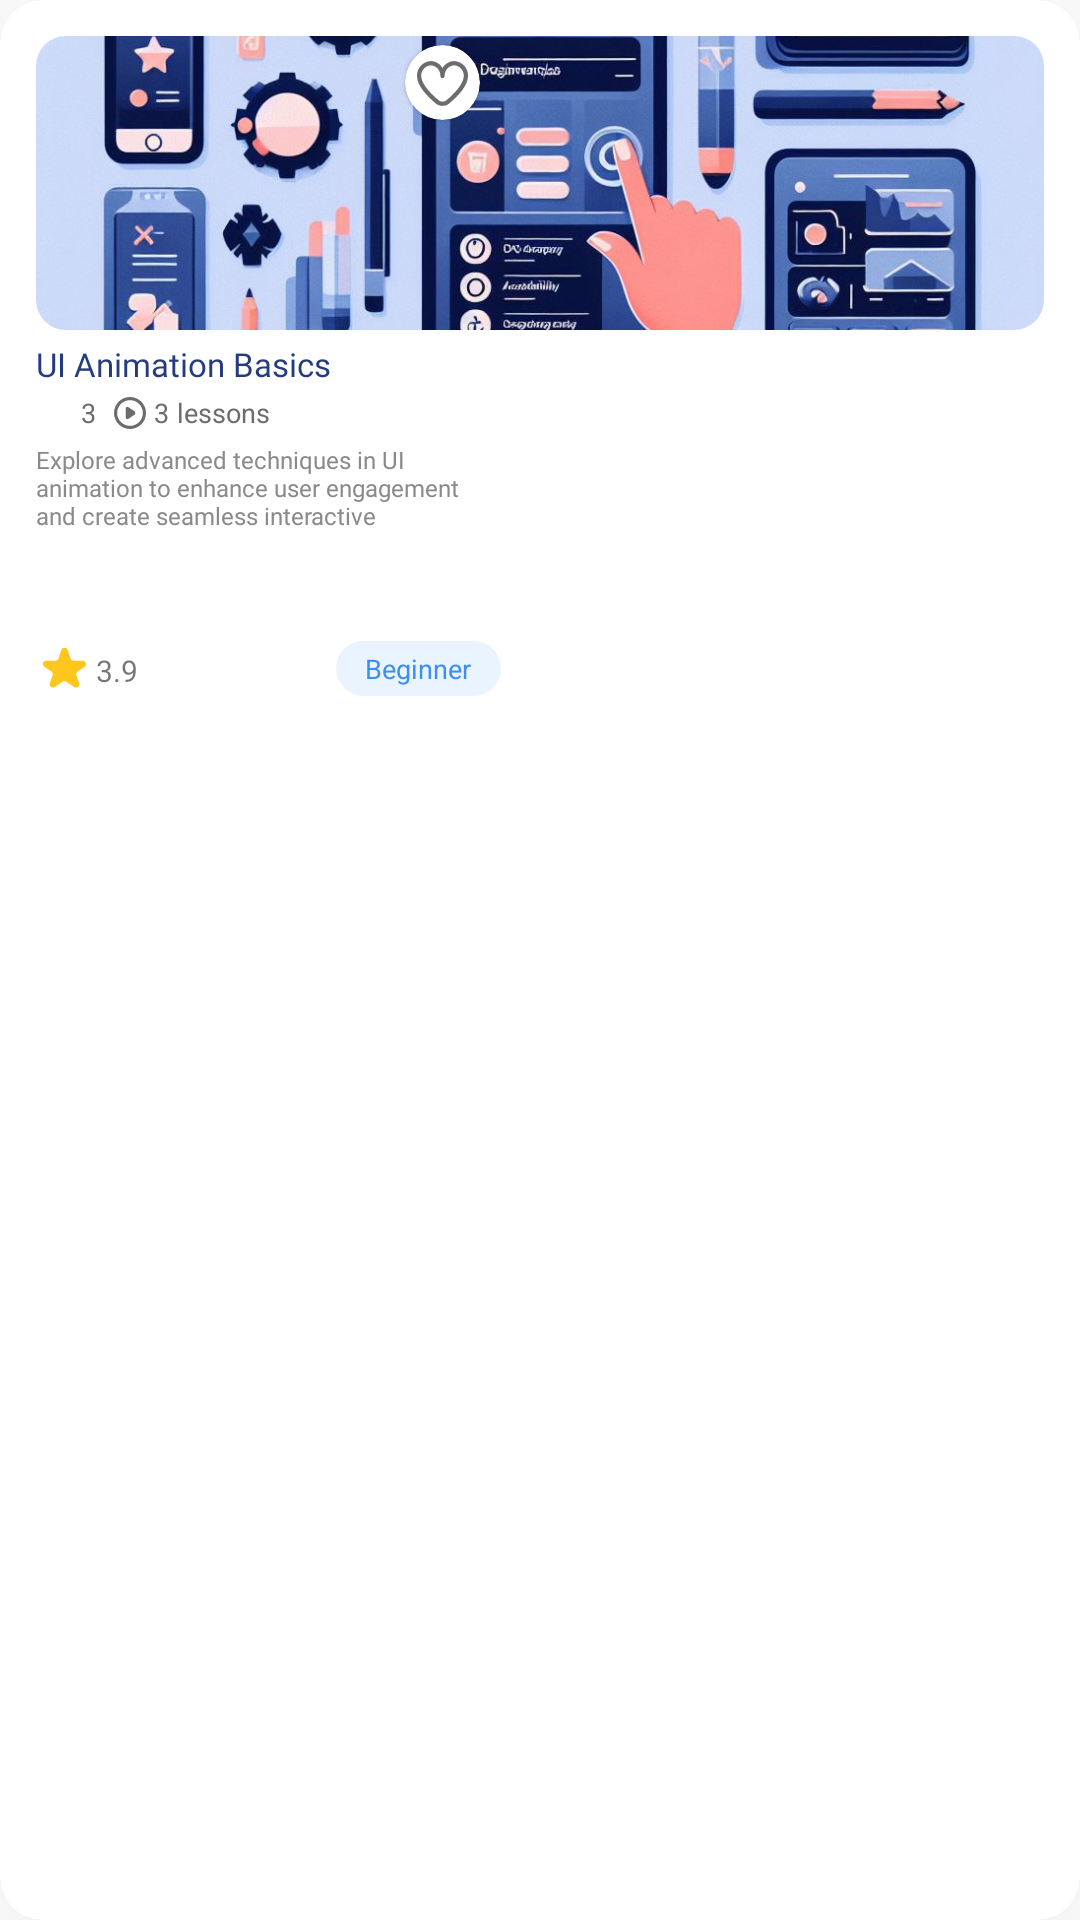

Locate icon controls on the screen. Image size 1080px x 1920px, boxes as (x1, y1, x2, y2).
playicon: (114, 397, 146, 429)
star: (43, 647, 86, 688)
